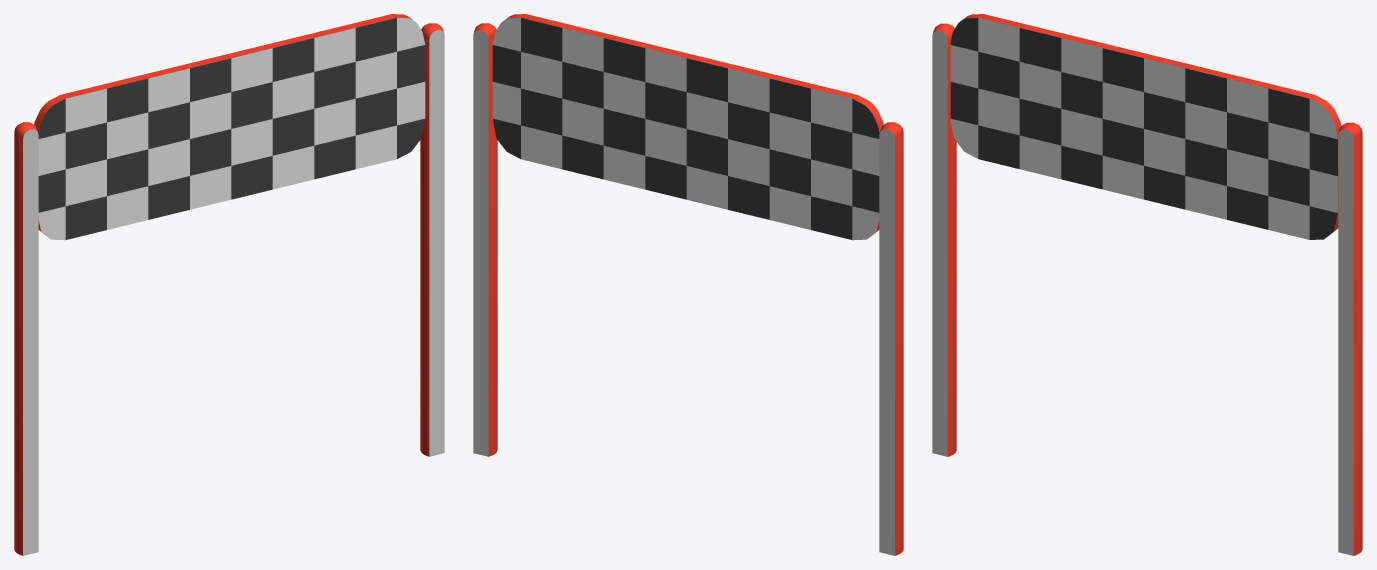
File: Finish Flag.fbx
3 renders of one model, left to right at view 1: azimuth 30°, elevation 25°; view 2: azimuth 150°, elevation 25°; view 3: azimuth 330°, elevation 25°, orthographic.
Visible parts, largest first — view 1: Finish Flag; view 2: Finish Flag; view 3: Finish Flag.
Part boxes in pixels (box(x1,y1,x2,y2)): Finish Flag: box(14, 14, 444, 555); Finish Flag: box(473, 14, 903, 555); Finish Flag: box(932, 14, 1362, 555).
Bounding box in the file's own units: 342 × 342 × 12.38.
